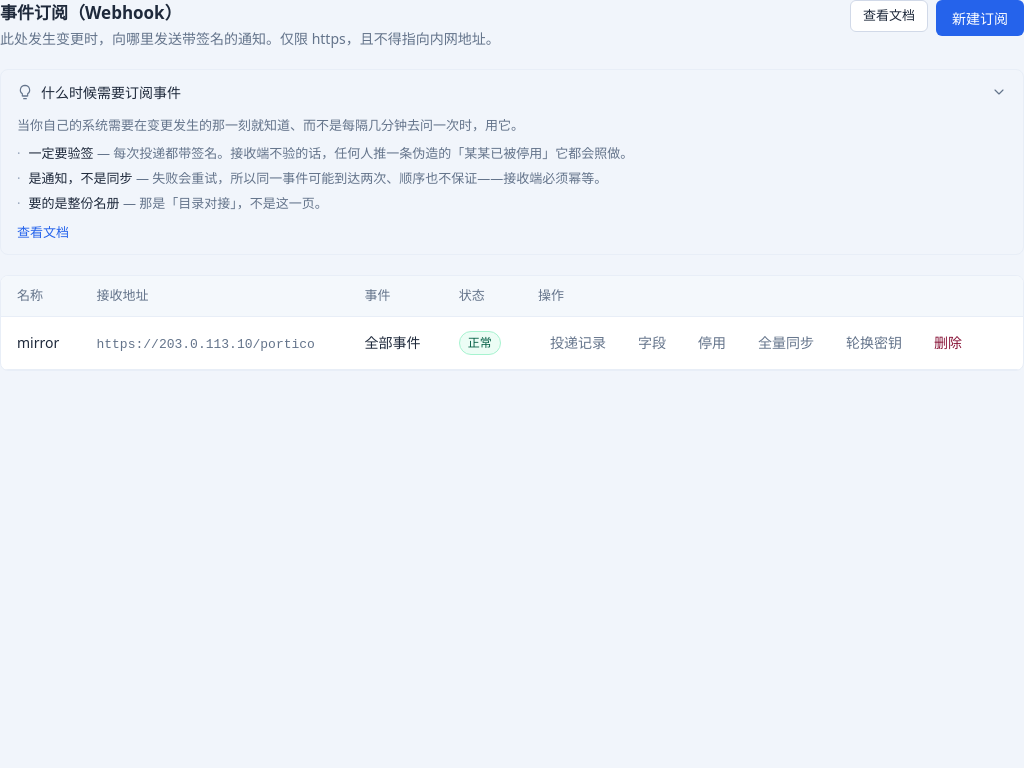
sending a full sync › asks first, because this is the largest delivery the product makes
The width and height of the screenshot is (1024, 768).
Click the button "全量同步".
click(786, 343)  # box 746,327 -> 826,359
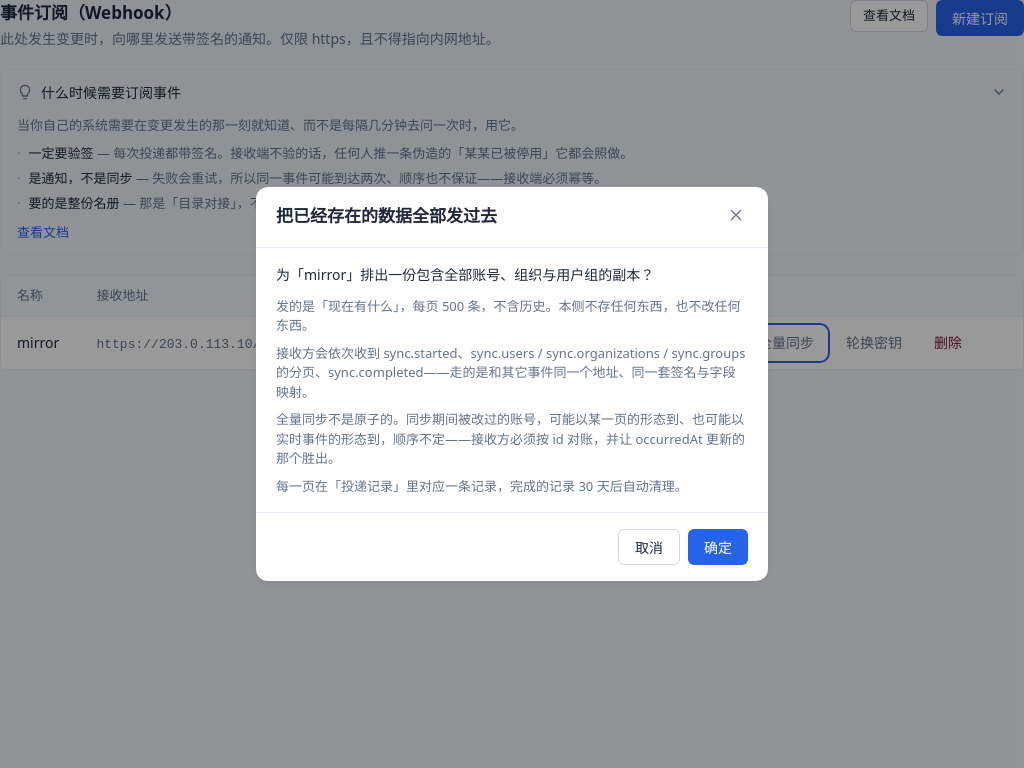
Check: the text "为「mirror」排出一份包含全部账号、组织与用户组的副本？" is shown, box 276,265 -> 654,284
Check: the list item "按 id 对账" is shown, box 276,410 -> 745,467
